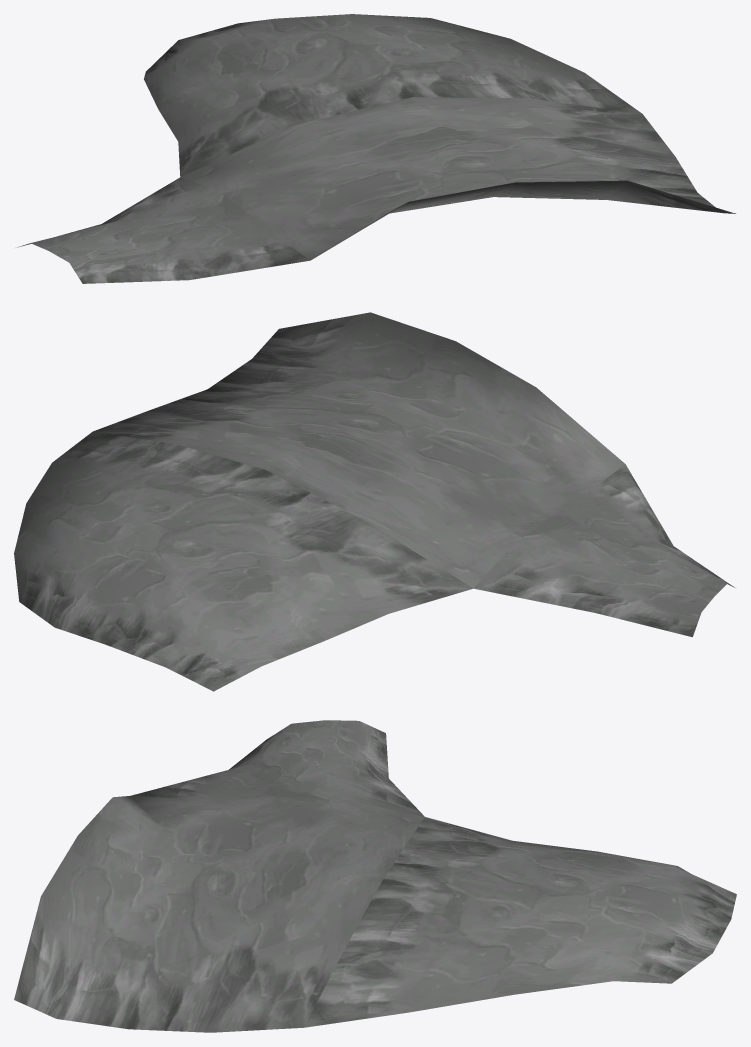
File: SWORDLIGHT20_PS-AREA03_129.fbx
3 views of the same model, one above another, from view 1: azimuth 30°, elevation 25°; view 2: azimuth 150°, elevation 25°; view 3: azimuth 270°, elevation 25° (orthographic). The views are drawn at different scales.
Parts seen in each view (by area): view 1: SWORDLIGHT20_PS-AREA03_129; view 2: SWORDLIGHT20_PS-AREA03_129; view 3: SWORDLIGHT20_PS-AREA03_129.
Part boxes in pixels (x1,y1,x2,y2): SWORDLIGHT20_PS-AREA03_129: (17, 14, 735, 283); SWORDLIGHT20_PS-AREA03_129: (14, 312, 734, 691); SWORDLIGHT20_PS-AREA03_129: (14, 720, 736, 1032).
Bounding box in the file's own units: 112265 × 16032 × 109192.
3 materials, 3 textured.
